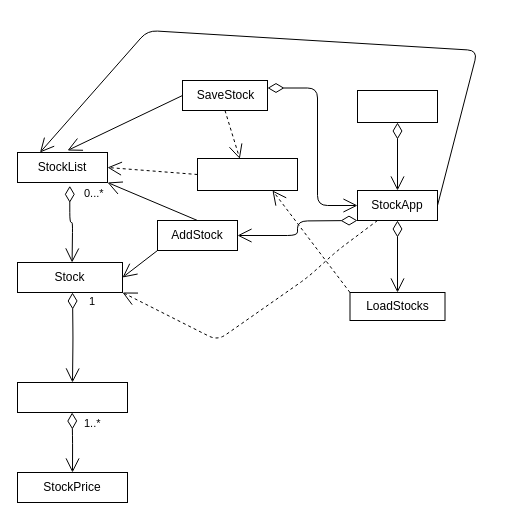
The diagram is 509 pixels wide and 520 high, and some of its shapes have lost their labels. Here are the shapes that lost their labels. From the top down, the box of each, then its label:
(356, 90, 438, 122): Main
(196, 158, 298, 190): SaveAndLoad
(16, 382, 128, 412): StockPriceList
